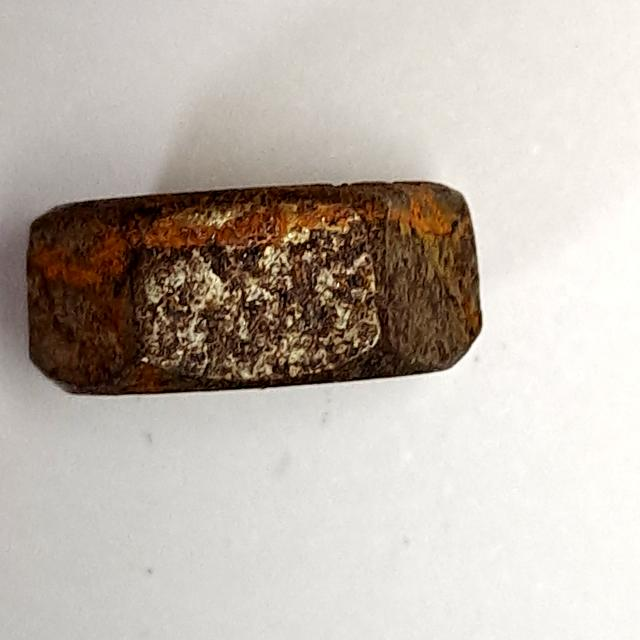Side_Rust: (6, 175, 503, 413)
